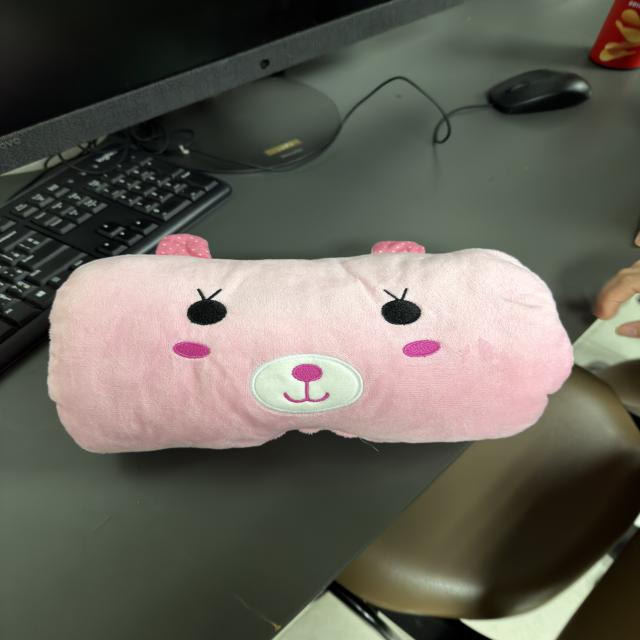pinkpillow: (41, 230, 577, 456)
